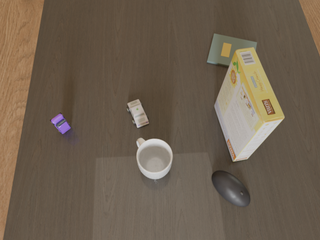book: (207, 34, 257, 67)
box: (214, 47, 284, 161)
cup: (137, 138, 172, 179)
mouse: (212, 171, 250, 207)
toy_car: (127, 99, 149, 128), (50, 113, 71, 134)
